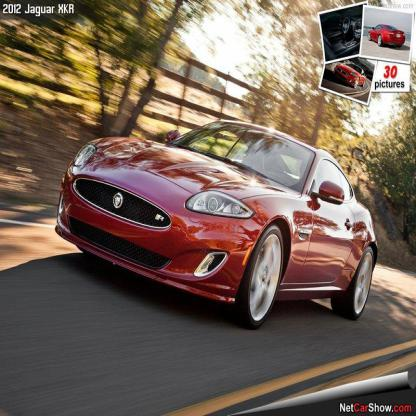Vehicle: (55, 117, 381, 331)
